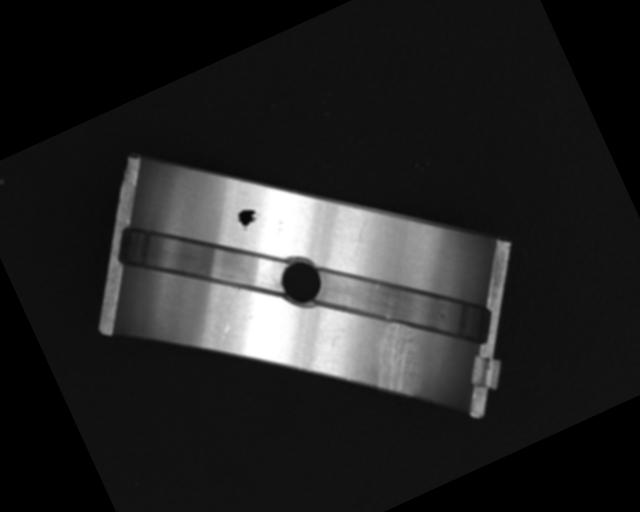blot: (233, 202, 266, 234)
gap: (305, 213, 495, 395), (109, 175, 290, 342)
hole: (273, 253, 328, 311)
nick: (204, 286, 256, 341), (342, 217, 377, 257)
scratch: (357, 316, 436, 404)
